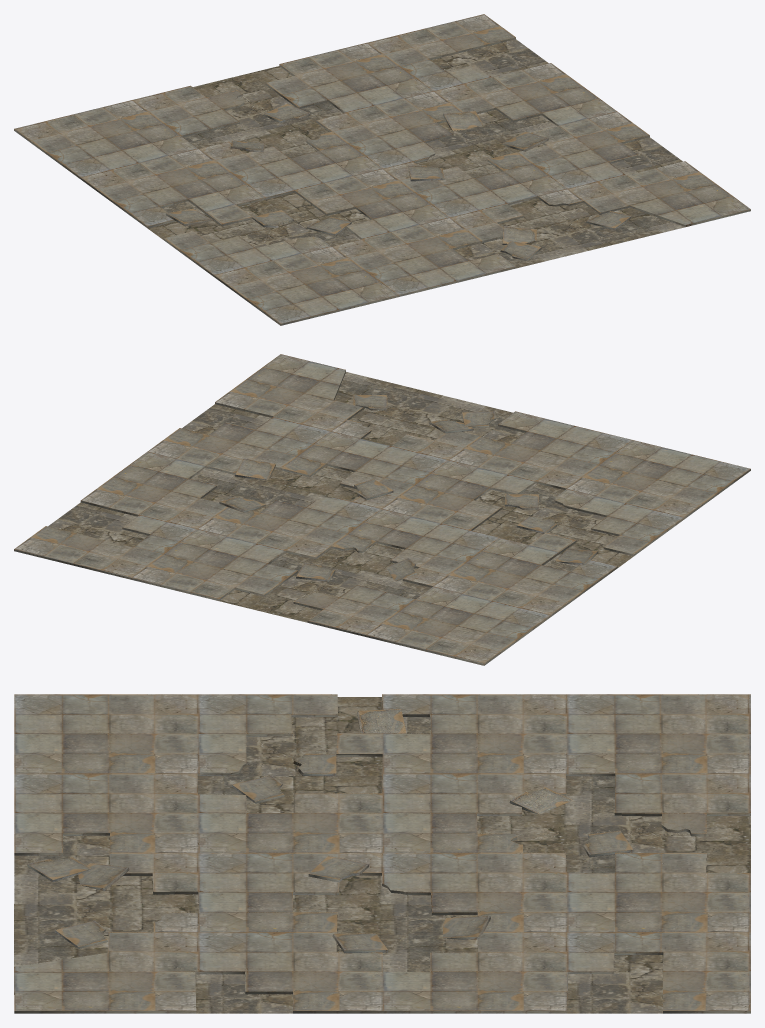
The model's file is Floor4.fbx.
3 views of the same model, one above another, from view 1: azimuth 30°, elevation 25°; view 2: azimuth 150°, elevation 25°; view 3: azimuth 270°, elevation 25° (orthographic). The views are drawn at different scales.
Visible parts, largest first — view 1: M4_Nigraturis_Dungeon_MastabaBlock_SM_SCY; view 2: M4_Nigraturis_Dungeon_MastabaBlock_SM_SCY; view 3: M4_Nigraturis_Dungeon_MastabaBlock_SM_SCY.
Boxes of the visible parts, x1,y1,x2,y2 form: M4_Nigraturis_Dungeon_MastabaBlock_SM_SCY: [14, 14, 750, 325]; M4_Nigraturis_Dungeon_MastabaBlock_SM_SCY: [14, 354, 750, 665]; M4_Nigraturis_Dungeon_MastabaBlock_SM_SCY: [14, 694, 750, 1013].
Size of the model in its own units: 7.01 by 0.1242 by 6.89.
Materials: 2 (2 with a texture image).
